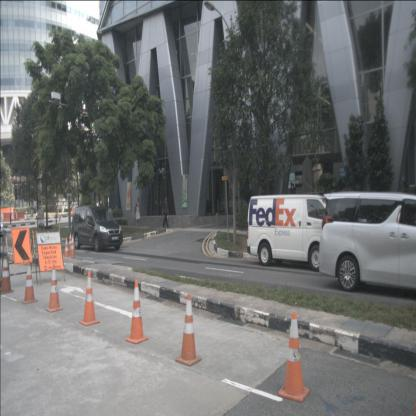barrier: (3, 212, 11, 222), (17, 211, 25, 220), (10, 212, 16, 222), (0, 212, 5, 222)
cone: (278, 312, 310, 402), (175, 293, 202, 367), (125, 280, 149, 344), (79, 271, 100, 326), (45, 264, 63, 313), (21, 260, 38, 304), (0, 256, 15, 296), (69, 234, 77, 258), (63, 236, 70, 258), (67, 232, 73, 252)
